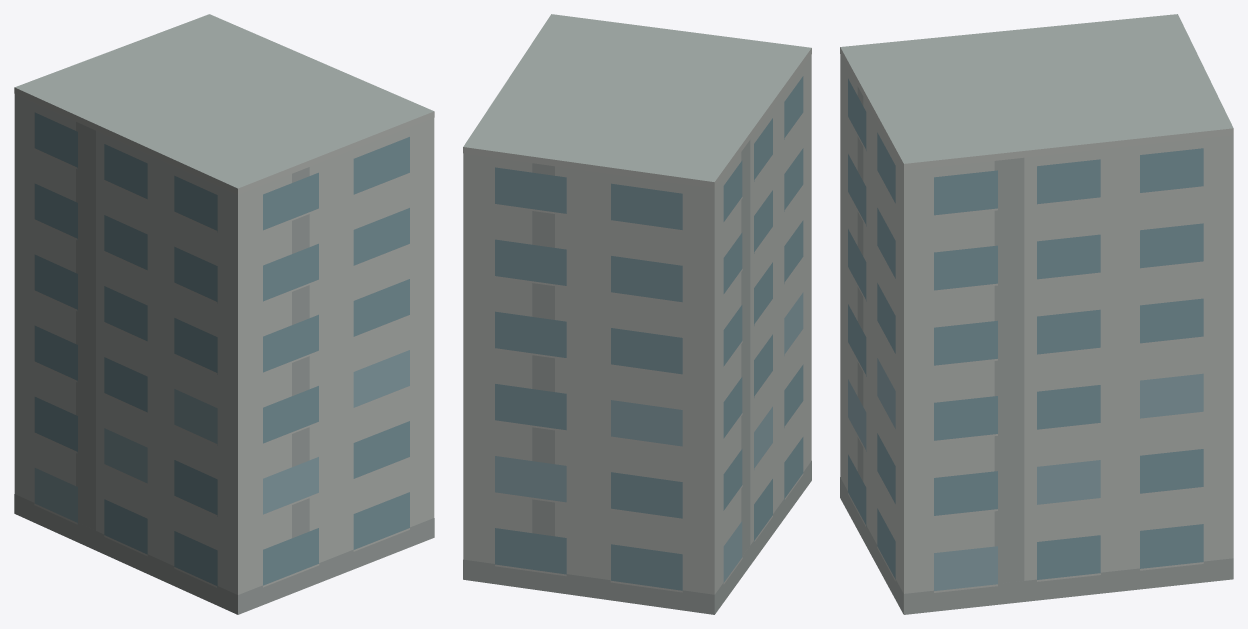
The model's file is survey-upis-32823514.glb.
3 renders of one model, left to right at view 1: azimuth 30°, elevation 25°; view 2: azimuth 150°, elevation 25°; view 3: azimuth 270°, elevation 25°, orthographic. The views are drawn at different scales.
Parts seen in each view (by area): view 1: survey-upis-32823514.tmp; view 2: survey-upis-32823514.tmp; view 3: survey-upis-32823514.tmp.
Part boxes in pixels (x1=…): survey-upis-32823514.tmp: x1=14, y1=14, x2=434, y2=614; survey-upis-32823514.tmp: x1=463, y1=14, x2=811, y2=614; survey-upis-32823514.tmp: x1=840, y1=14, x2=1233, y2=614.
Size of the model in its own units: 11.52 by 16.15 by 12.78.
